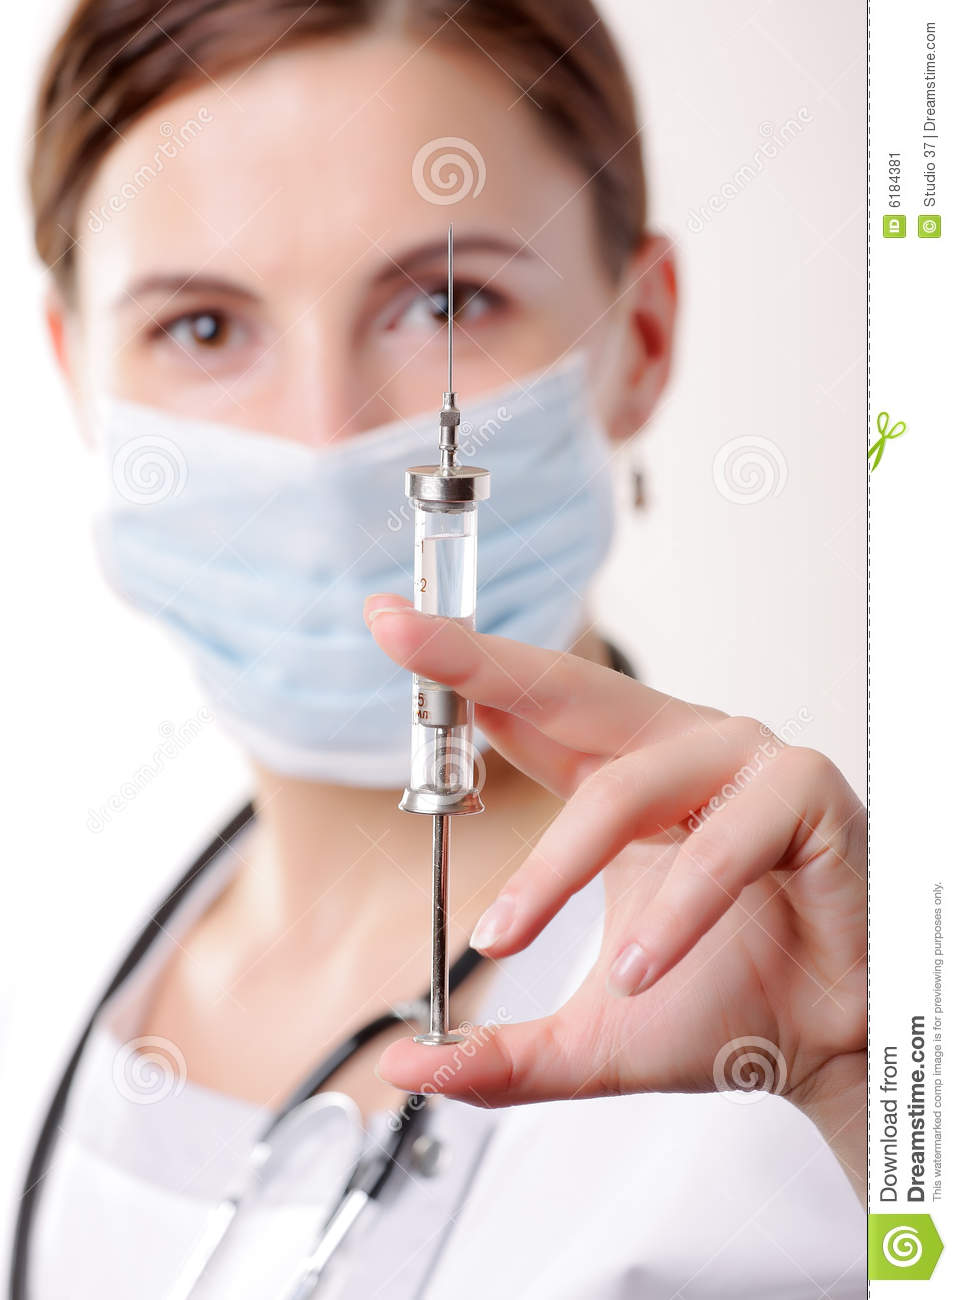mask: (92, 389, 652, 779)
